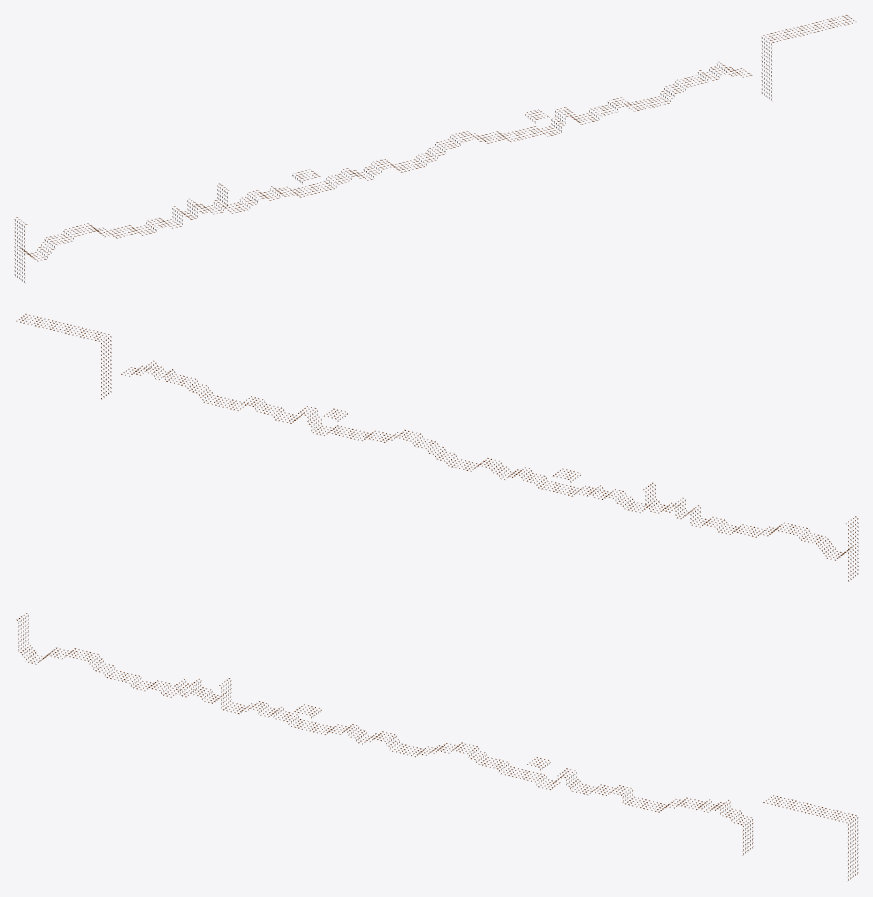
File: Luna2Rachadura07.glb
3 renders of one model, top to bottom at view 1: azimuth 30°, elevation 25°; view 2: azimuth 150°, elevation 25°; view 3: azimuth 330°, elevation 25°, orthographic.
Parts seen in each view (by area): view 1: Setor_1, Setor_2, Setor_4; view 2: Setor_1; view 3: Setor_6, Setor_0.
Boxes of the visible parts, x1,y1,x2,y2 form: Setor_1: (136,183,264,234); Setor_2: (256,161,384,200); Setor_4: (496,99,623,141); Setor_1: (609,482,736,533); Setor_6: (737,795,858,880); Setor_0: (16,613,143,688).
Bounding box in the file's own units: 231 × 15.6 × 5.6.
1 material, 1 textured.
